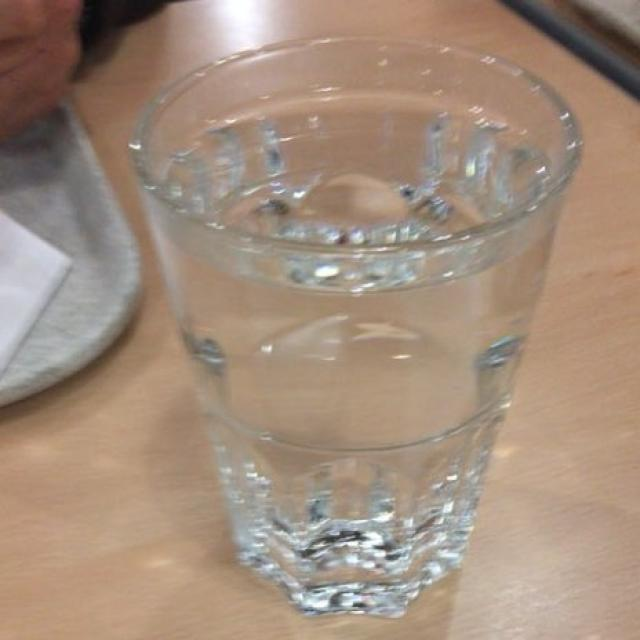water: (126, 78, 582, 608)
